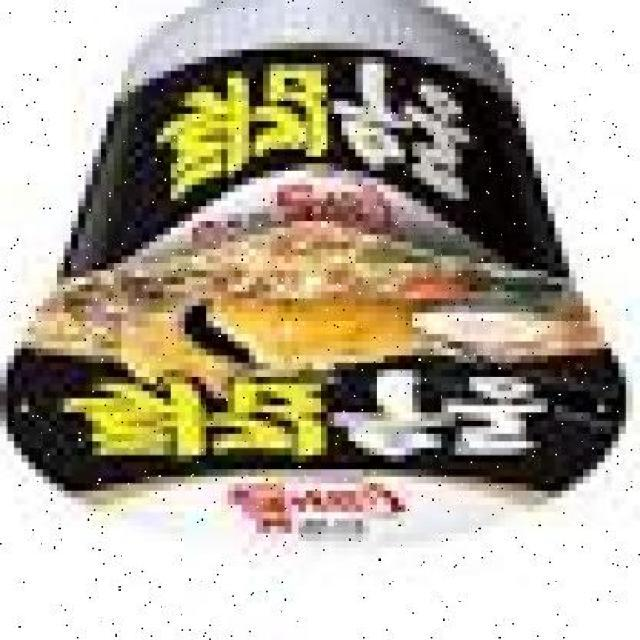Miscellaneous: (14, 0, 612, 583)
